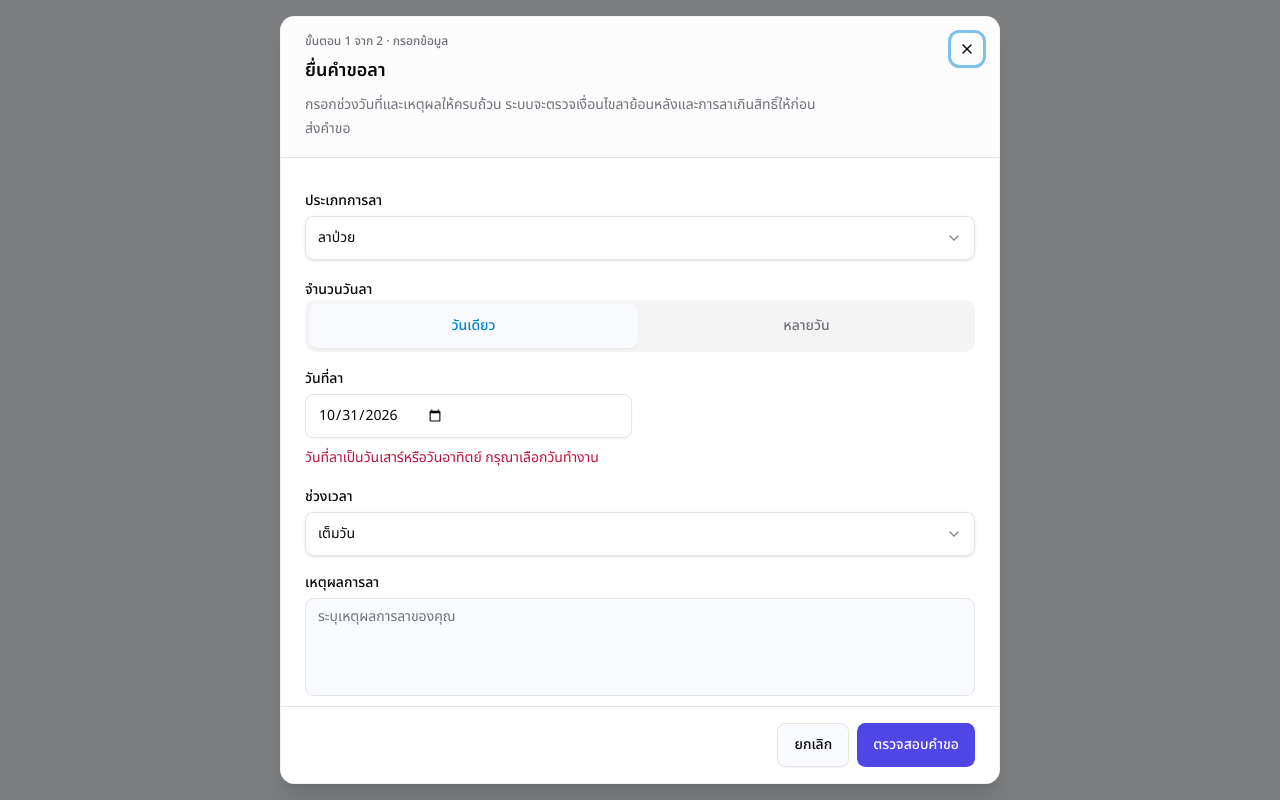
Test case: LeaveRequestForm › shows special reason requirements when the request exceeds quota
Type "2031-01-06" into the date field labelled "วันที่ลา" at coordinates (468, 416), box [305, 394, 632, 438]
(page scrolled)
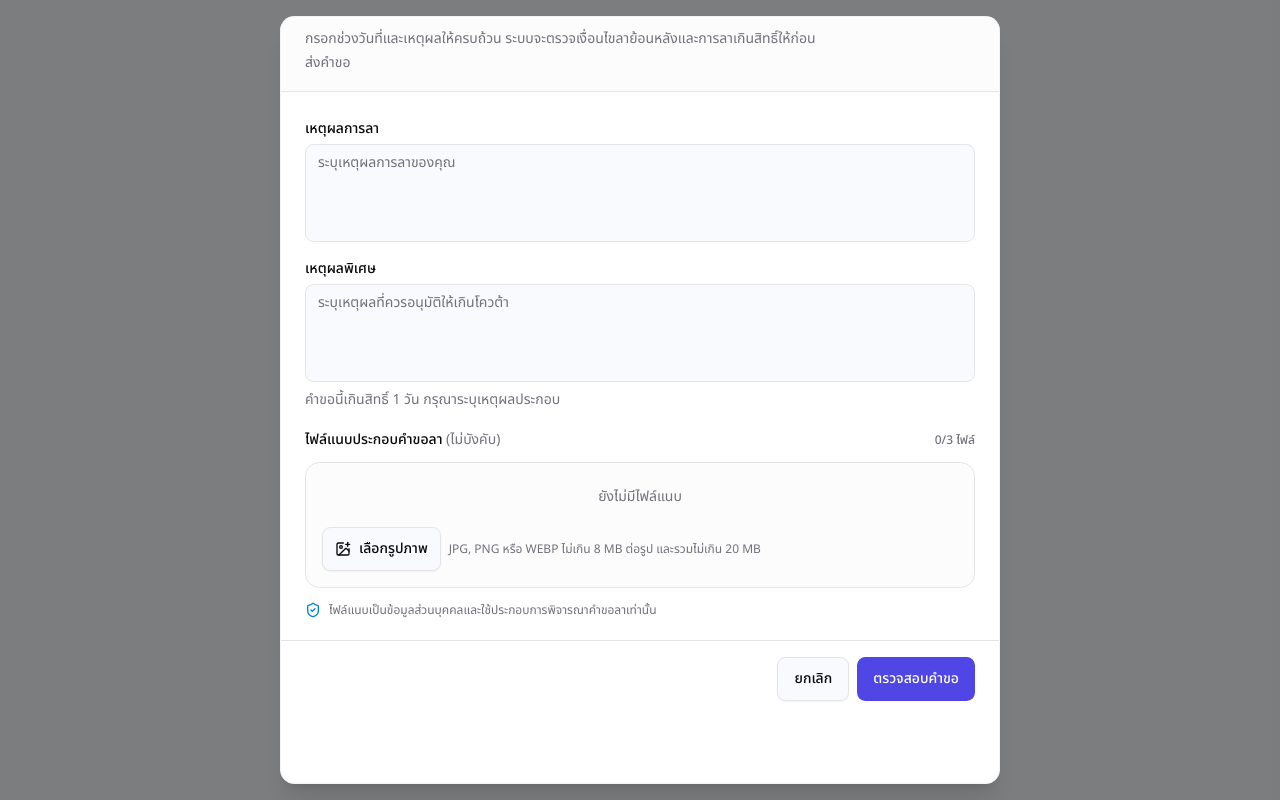
Now the text box labelled "เหตุผลพิเศษ" is shown, box [305, 284, 975, 382]
Now the text "คำขอนี้เกินสิทธิ์ 1 วัน กรุณาระบุเหตุผลประกอบ" is shown, box [305, 389, 560, 410]
